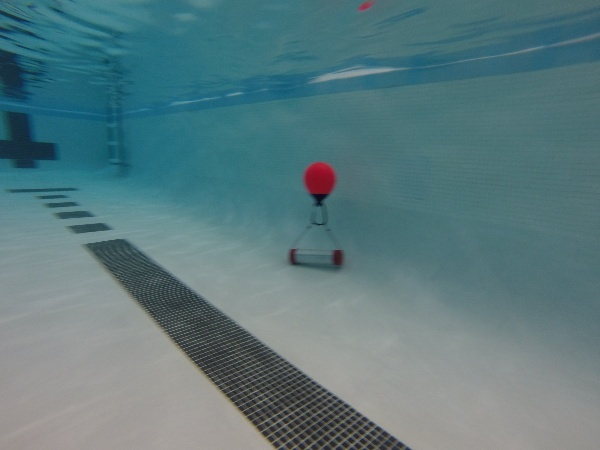buoy_red: (298, 162, 338, 206)
